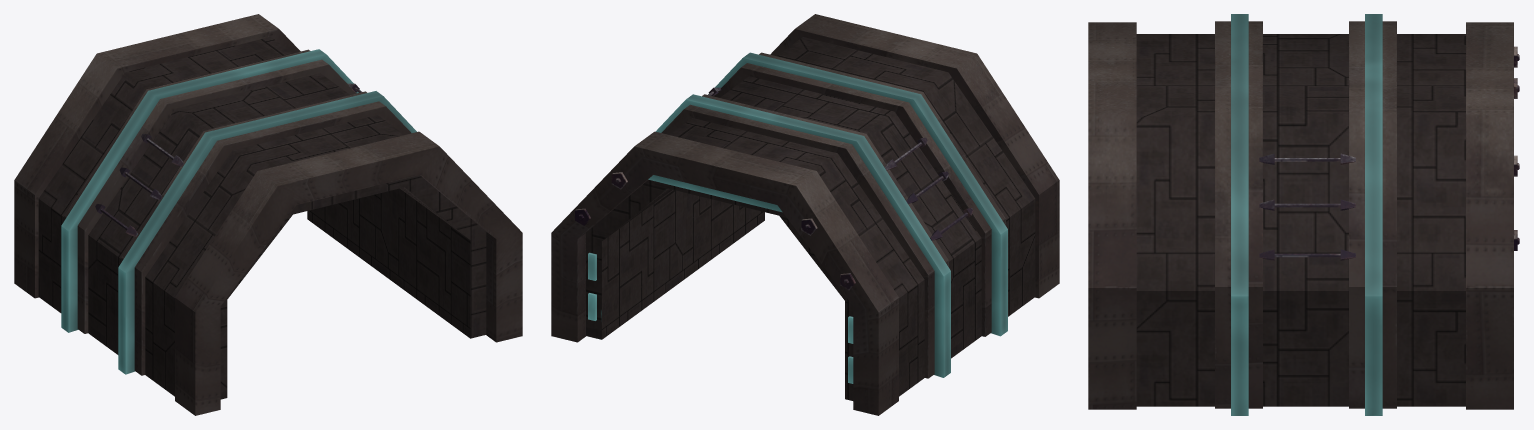
The model's file is spawn_tunnel.glb.
The picture shows the model from 3 angles, left to right: view 1: azimuth 30°, elevation 25°; view 2: azimuth 150°, elevation 25°; view 3: azimuth 270°, elevation 25°; orthographic projection. The views are drawn at different scales.
Visible parts, largest first — view 1: Spawn_Tunnel; view 2: Spawn_Tunnel; view 3: Spawn_Tunnel.
Part boxes in pixels (box(x1,y1,x2,y2)): Spawn_Tunnel: box(14, 14, 522, 415); Spawn_Tunnel: box(551, 14, 1059, 415); Spawn_Tunnel: box(1088, 14, 1519, 415).
Size of the model in its own units: 5.03 by 3 by 4.62.
Materials: 1 (1 with a texture image).
